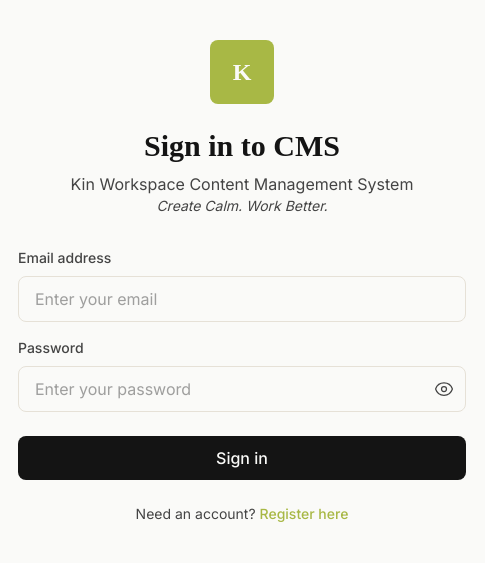
Test: LoginForm › should show validation errors for empty fields
Click the button "Sign in": (242, 458) [18,436,466,480]
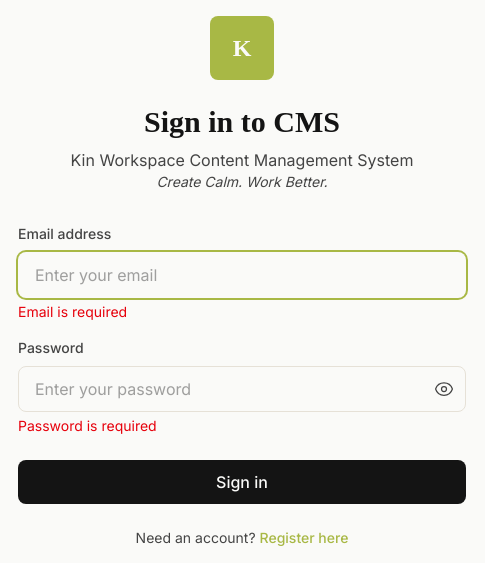
Check: the text "Email is required" is shown, box [18,303,127,320]
Check: the text "Password is required" is shown, box [18,417,157,434]
